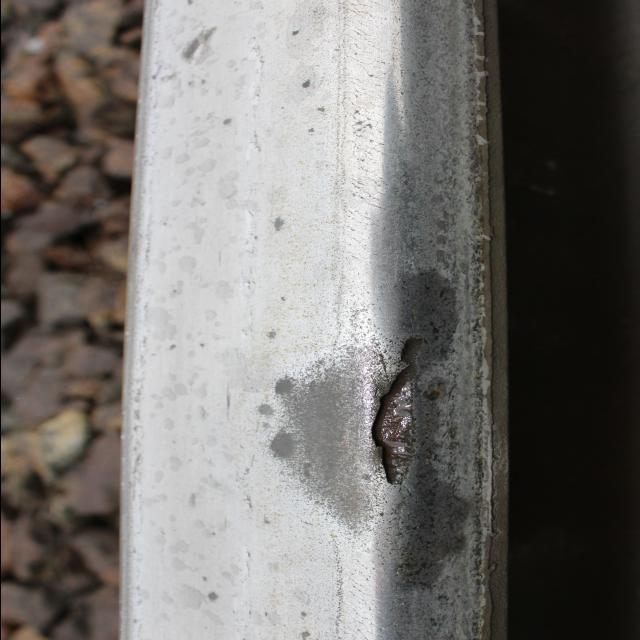broken_rail_medium: (366, 335, 424, 487), (180, 29, 218, 62)
